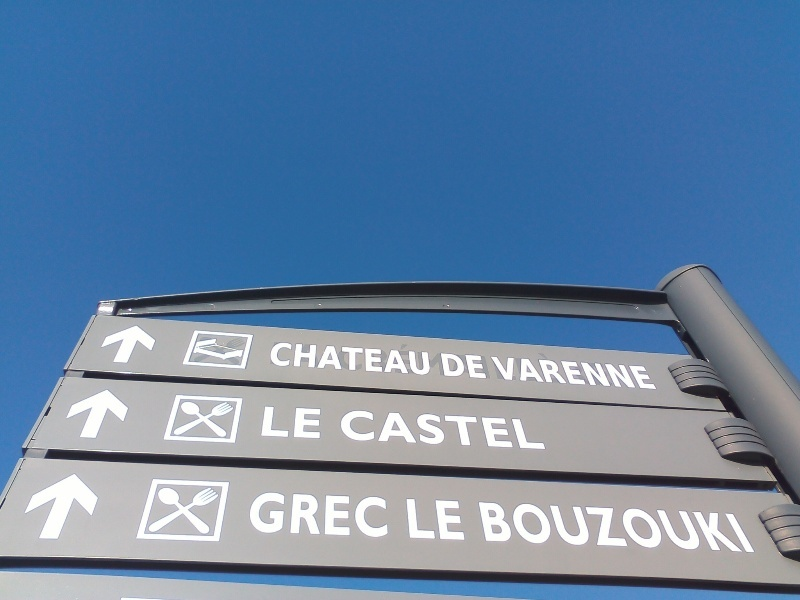text: (481, 501, 496, 554), (497, 501, 512, 554), (513, 501, 528, 554), (529, 501, 544, 554), (545, 501, 560, 554), (561, 501, 576, 554), (577, 501, 592, 554), (593, 501, 608, 554), (609, 501, 624, 554), (625, 501, 640, 554), (641, 501, 656, 554), (657, 501, 672, 554), (673, 501, 688, 554), (689, 501, 704, 554), (705, 501, 720, 554), (721, 501, 736, 554), (737, 501, 752, 554), (257, 491, 272, 540), (273, 491, 288, 540), (289, 491, 304, 540), (305, 491, 320, 540), (321, 491, 336, 540), (337, 491, 352, 540), (353, 491, 368, 540), (369, 491, 384, 540), (417, 498, 432, 541), (433, 498, 448, 541), (449, 498, 464, 541), (353, 409, 368, 451), (369, 409, 384, 451), (385, 409, 400, 451), (401, 409, 416, 451), (417, 409, 432, 451), (433, 409, 448, 451), (449, 409, 464, 451), (465, 409, 480, 451), (481, 409, 496, 451), (497, 409, 512, 451), (513, 409, 528, 451), (529, 409, 544, 451), (417, 341, 433, 377), (273, 404, 288, 442), (289, 404, 304, 442), (305, 404, 320, 442), (273, 341, 288, 377), (289, 341, 304, 377), (305, 341, 320, 377), (321, 341, 336, 377), (337, 341, 352, 377), (353, 341, 368, 377), (369, 341, 384, 377), (385, 341, 400, 377), (401, 341, 416, 377), (497, 356, 512, 392), (513, 356, 528, 392), (529, 356, 544, 392), (545, 356, 560, 392), (561, 356, 576, 392), (577, 356, 592, 392), (593, 356, 608, 392), (609, 356, 624, 392), (625, 356, 640, 392), (641, 356, 656, 392), (340, 409, 352, 451), (406, 498, 416, 541), (449, 352, 464, 380), (465, 352, 480, 380), (264, 404, 272, 442), (753, 501, 758, 554), (489, 356, 496, 392), (385, 491, 390, 540), (440, 352, 448, 380), (481, 352, 488, 380), (477, 501, 480, 554), (253, 491, 256, 540), (545, 409, 548, 451), (465, 498, 467, 541), (321, 404, 322, 442), (657, 356, 658, 392)
